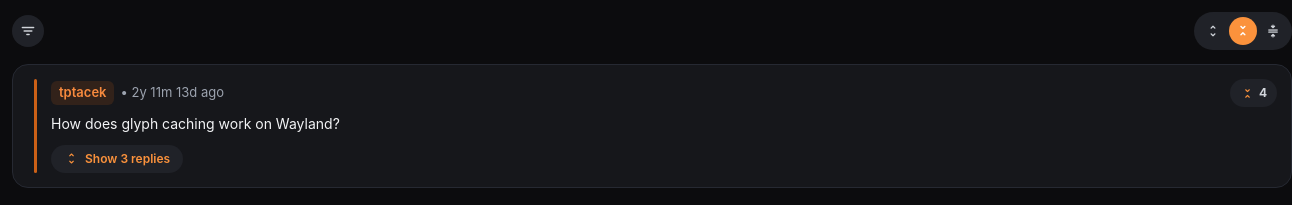
Test: CommentTree & Progressive Depth-Gated Rendering › toggles thread filter input on icon click and filters comments by keyword
Expected: the field with placeholder "Filter comments or @author" is not shown
Click the button named "Filter comments" at x=28, y=31, box x1=12 y1=15 x2=44 y2=47
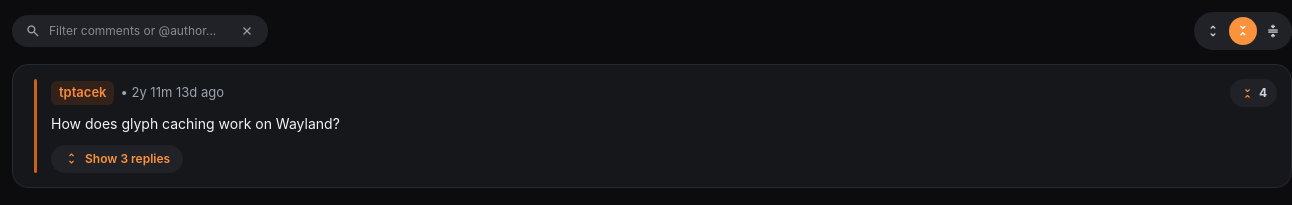
Expected: the field with placeholder "Filter comments or @author..." is shown
# Type a keyword that matches
Type "glyph" into the field with placeholder "Filter comments or @author..." at x=140, y=31, box x1=49 y1=23 x2=231 y2=39
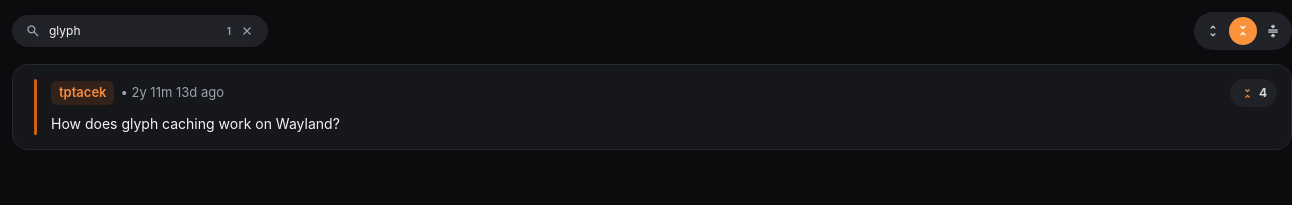
Expected: the text "How does glyph caching work on Wayland?" is shown, x1=51 y1=115 x2=340 y2=132
# Type a keyword that doesn't match
Replace the text in the field with placeholder "Filter comments or @author..." with "nonexistent query" at x=134, y=31, box x1=49 y1=23 x2=219 y2=39
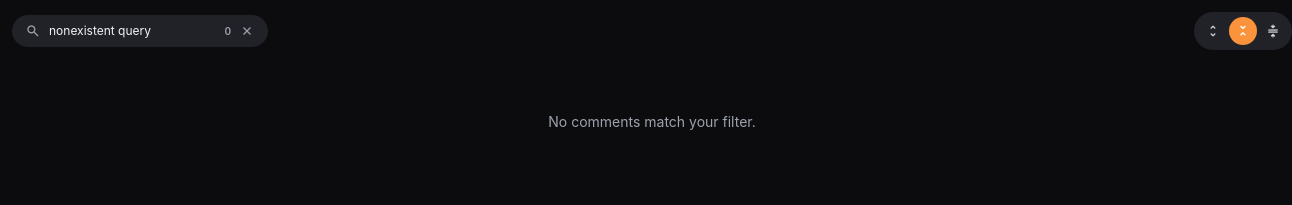
Expected: the text "No comments match your filter." is shown, x1=548 y1=113 x2=756 y2=130
# Clear filter
Click the button named "Clear filter" at x=247, y=31, box x1=239 y1=23 x2=255 y2=39
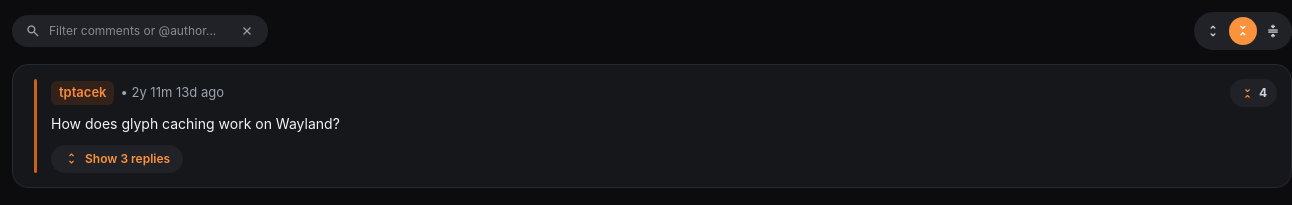
Expected: the text "tptacek" is shown, x1=51 y1=81 x2=114 y2=105
